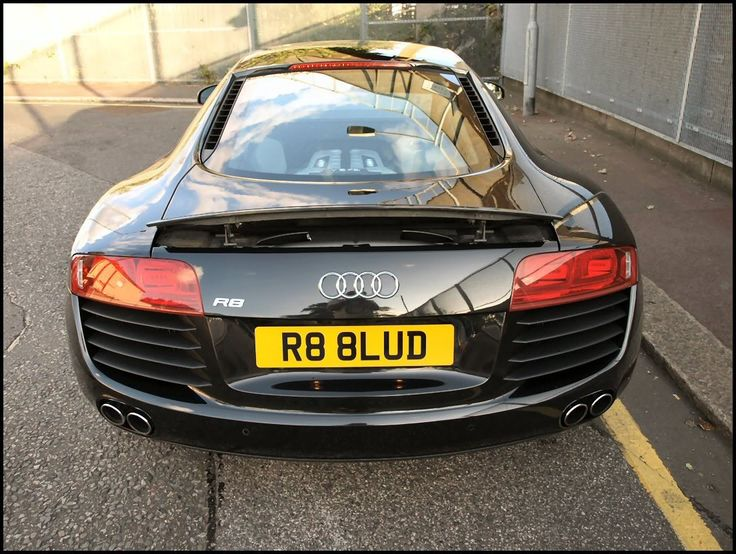number_plates: (258, 326, 454, 368)
